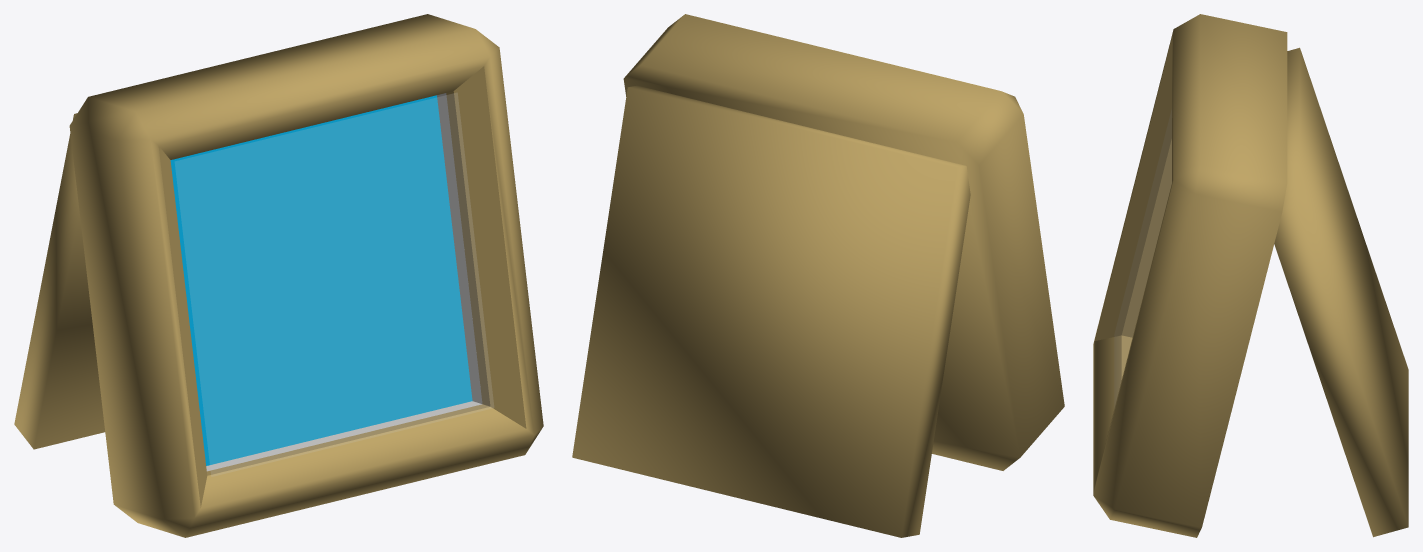
Rendered from tabletop-picture-frame.glb.
The picture shows the model from 3 angles, left to right: view 1: azimuth 30°, elevation 25°; view 2: azimuth 150°, elevation 25°; view 3: azimuth 270°, elevation 25°; orthographic projection. The views are drawn at different scales.
Parts seen in each view (by area): view 1: __X_FRAME__Frame.Bevel, __X_COVER__Cover, __X_PICTURE__Picture, Stand, __X_MAT__Mat; view 2: Stand, __X_FRAME__Frame.Bevel; view 3: __X_FRAME__Frame.Bevel, Stand, __X_COVER__Cover.
Boxes of the visible parts, x1,y1,x2,y2 form: __X_FRAME__Frame.Bevel: (69, 14, 543, 537); __X_COVER__Cover: (175, 93, 493, 476); __X_PICTURE__Picture: (170, 95, 472, 465); Stand: (14, 113, 105, 449); __X_MAT__Mat: (206, 93, 482, 471); Stand: (572, 85, 970, 537); __X_FRAME__Frame.Bevel: (623, 14, 1064, 470); __X_FRAME__Frame.Bevel: (1093, 14, 1287, 537); Stand: (1274, 47, 1408, 537); __X_COVER__Cover: (1115, 111, 1171, 403).
Bounding box in the file's own units: 0.054 × 0.0553 × 0.0424.
